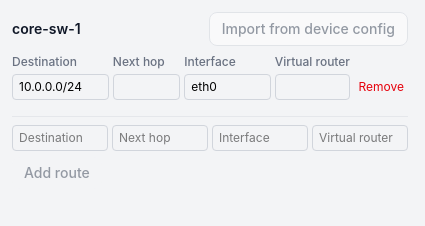
RoutingPanel › existing-row editing (review fix F2) › clearing destination then blurring does not write an empty string to the store, and shows an inline error
Clear the field named "Destination": (60, 87) [12,74,109,100]
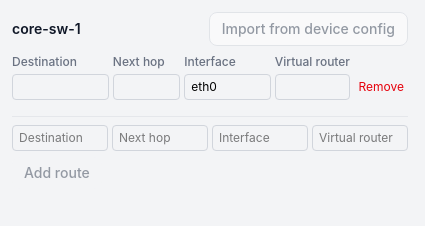
Leave the field named "Destination", box [12,74,109,100]
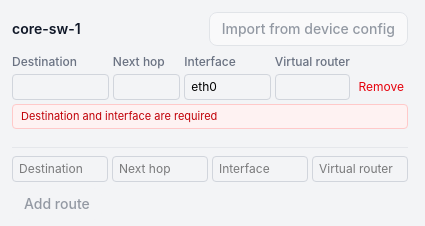
Now the text "Destination and interface are required" is shown, box [12,104,408,129]
